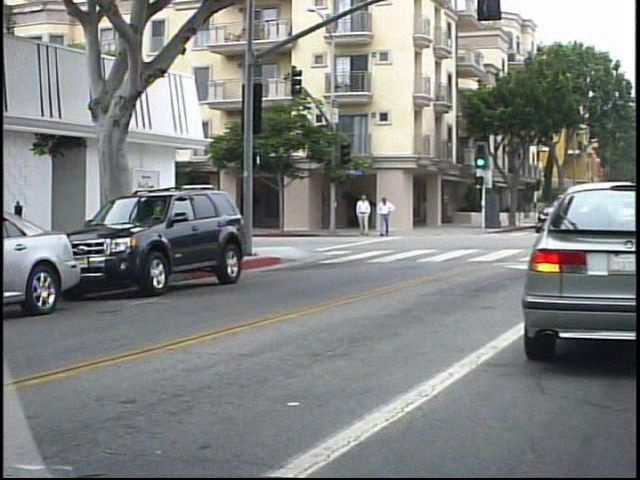person: (351, 192, 370, 243), (372, 193, 392, 238)
